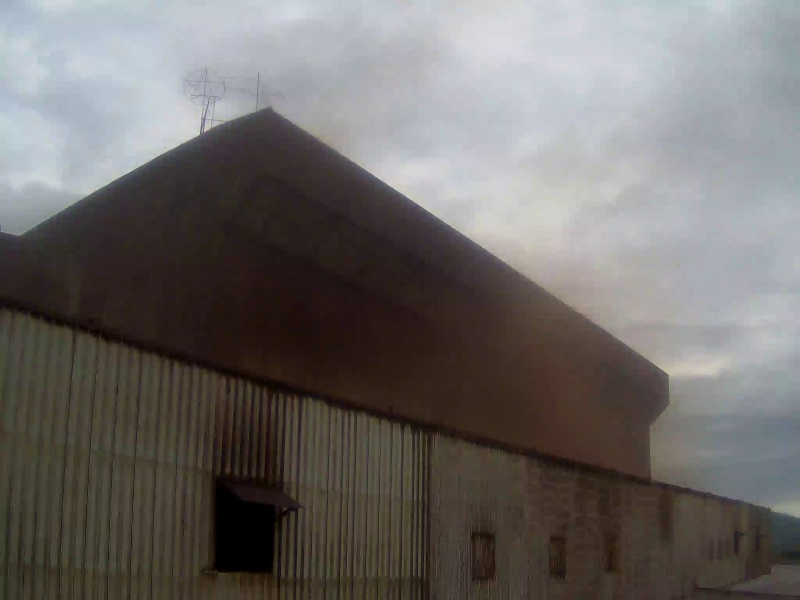bom: (2, 12, 266, 171)
ruim: (272, 55, 713, 492)
